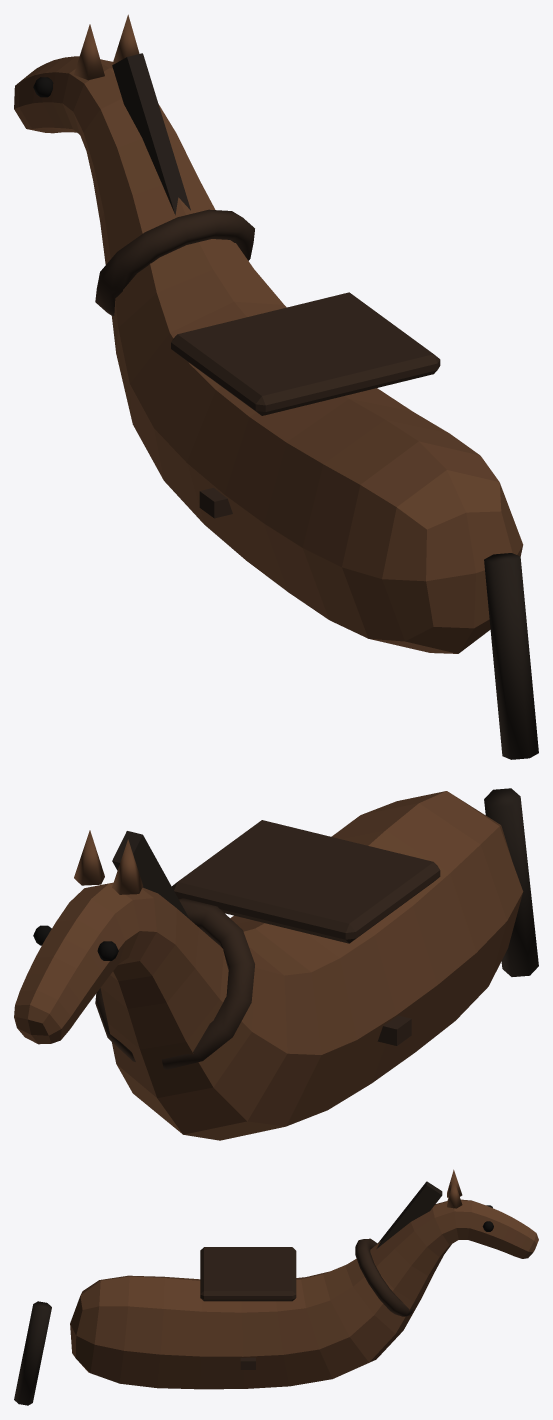
The model's file is horse.glb.
3 views of the same model, one above another, from view 1: azimuth 30°, elevation 25°; view 2: azimuth 150°, elevation 25°; view 3: azimuth 270°, elevation 25° (orthographic). The views are drawn at different scales.
Parts seen in each view (by area): view 1: skin, Cube.001, Cylinder, Torus, Cube, Cone; view 2: skin, Cube.001, Torus, Cylinder, Cube, Cone.001, Cone, Cube.002; view 3: skin, Cube.001, Cylinder, Torus, Cube.
Boxes of the visible parts, box(x1,y1,x2,y2) form: skin: box(14, 56, 523, 653); Cube.001: box(171, 292, 440, 415); Cylinder: box(484, 553, 538, 759); Torus: box(95, 209, 254, 315); Cube: box(112, 53, 190, 215); Cone: box(74, 24, 104, 80); skin: box(14, 791, 523, 1140); Cube.001: box(172, 820, 440, 943); Torus: box(95, 898, 254, 1069); Cylinder: box(484, 788, 538, 976); Cube: box(112, 831, 189, 919); Cone.001: box(74, 830, 104, 885); Cone: box(112, 839, 142, 894); Cube.002: box(377, 1015, 411, 1045); skin: box(70, 1199, 538, 1389); Cube.001: box(200, 1247, 296, 1301); Cylinder: box(14, 1301, 51, 1405); Torus: box(355, 1238, 413, 1316); Cube: box(376, 1181, 442, 1248).
Size of the model in its own units: 0.62 by 1.31 by 2.73.
